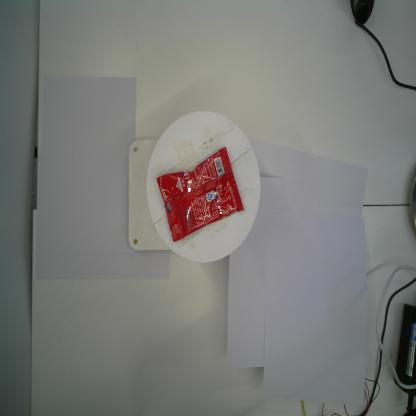Instant Drink: (155, 144, 245, 244)
